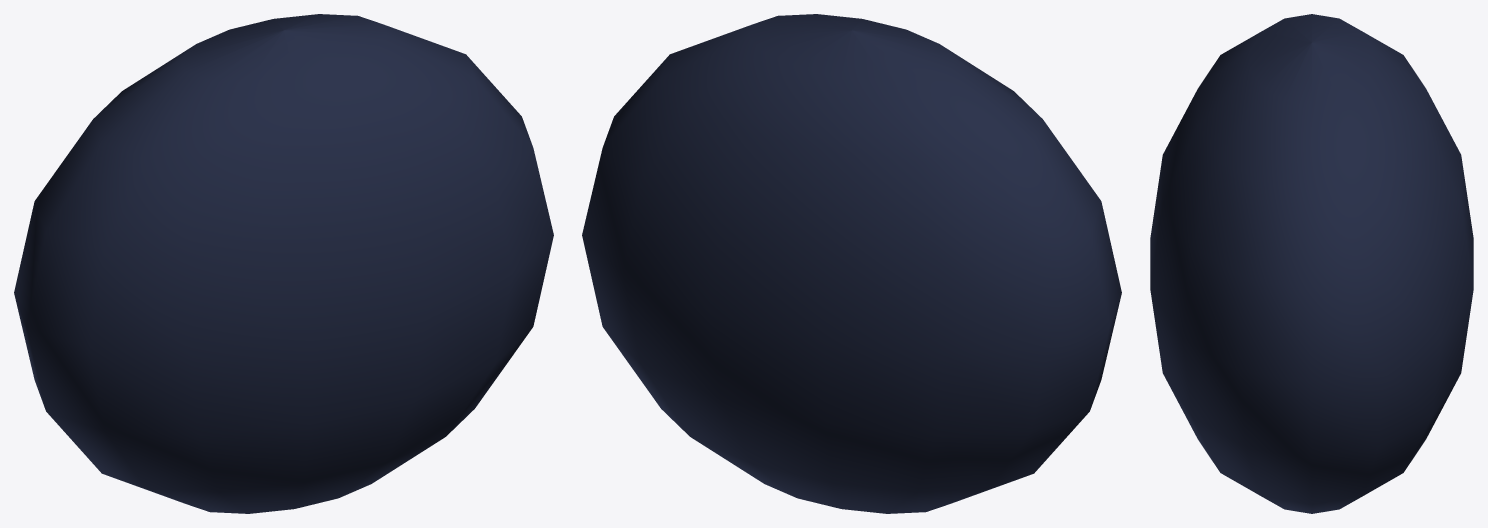
The model's file is hips.obj.
3 views of the same model, side by side, from view 1: azimuth 30°, elevation 25°; view 2: azimuth 150°, elevation 25°; view 3: azimuth 270°, elevation 25° (orthographic). The views are drawn at different scales.
Visible parts, largest first — view 1: hips; view 2: hips; view 3: hips.
Boxes of the visible parts, left/top/right/bottom form: hips: left=14, top=14, right=553, bottom=513; hips: left=582, top=14, right=1121, bottom=513; hips: left=1150, top=14, right=1473, bottom=513.
Size of the model in its own units: 0.3101 by 0.2688 by 0.1778.
